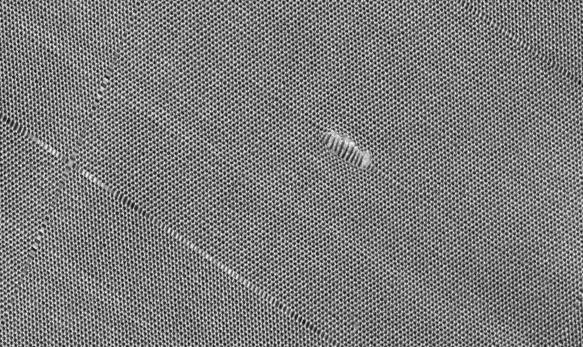slub: (313, 117, 381, 179)
